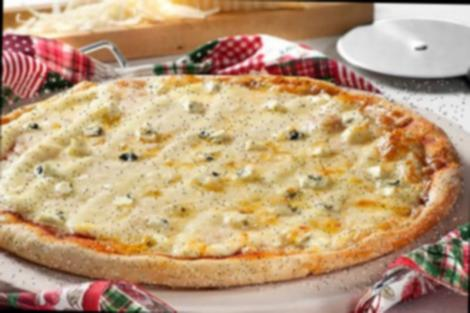Cheese: (254, 218, 336, 248), (168, 210, 224, 252), (18, 140, 116, 162), (54, 198, 112, 230), (132, 163, 194, 192), (138, 194, 266, 208), (1, 162, 32, 208), (81, 163, 131, 191), (210, 98, 260, 125), (332, 128, 375, 158), (342, 200, 406, 219), (164, 124, 196, 162), (107, 96, 133, 140), (136, 97, 180, 121), (112, 210, 144, 242), (48, 107, 79, 138), (308, 99, 329, 144), (259, 158, 294, 184), (33, 180, 52, 222), (300, 159, 360, 171), (198, 126, 232, 145), (270, 124, 305, 142), (332, 176, 360, 197), (134, 124, 162, 142), (298, 173, 328, 189), (182, 97, 208, 115), (269, 199, 296, 216), (343, 108, 368, 126), (194, 172, 220, 189), (374, 178, 398, 196), (226, 212, 252, 228), (82, 123, 106, 138), (230, 166, 255, 180), (244, 140, 269, 154), (273, 144, 302, 156), (146, 80, 169, 95), (365, 164, 388, 178), (119, 148, 141, 162), (316, 200, 341, 212), (34, 164, 54, 178), (23, 122, 46, 134), (113, 194, 135, 206), (307, 146, 329, 158), (54, 183, 74, 196), (145, 214, 165, 227), (276, 186, 296, 199), (198, 150, 216, 164), (202, 82, 221, 95), (264, 100, 284, 112)
Pizza: (0, 71, 464, 293)
